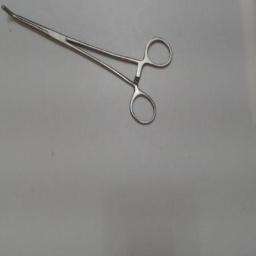Lahey Forceps: (2, 2, 176, 130)
